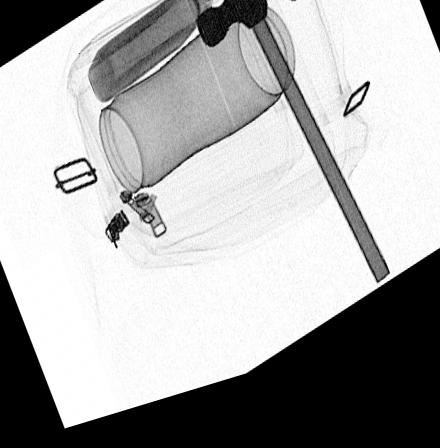Hammer: (194, 0, 389, 307)
